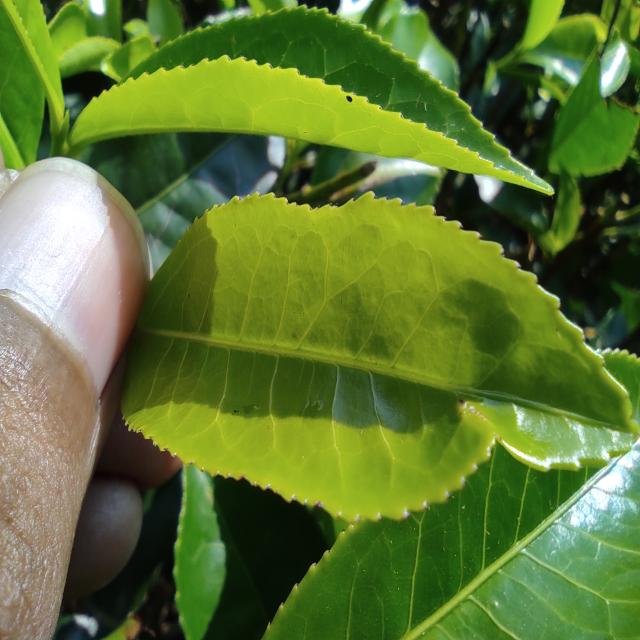Category C 4-7 days: (88, 154, 640, 534)
